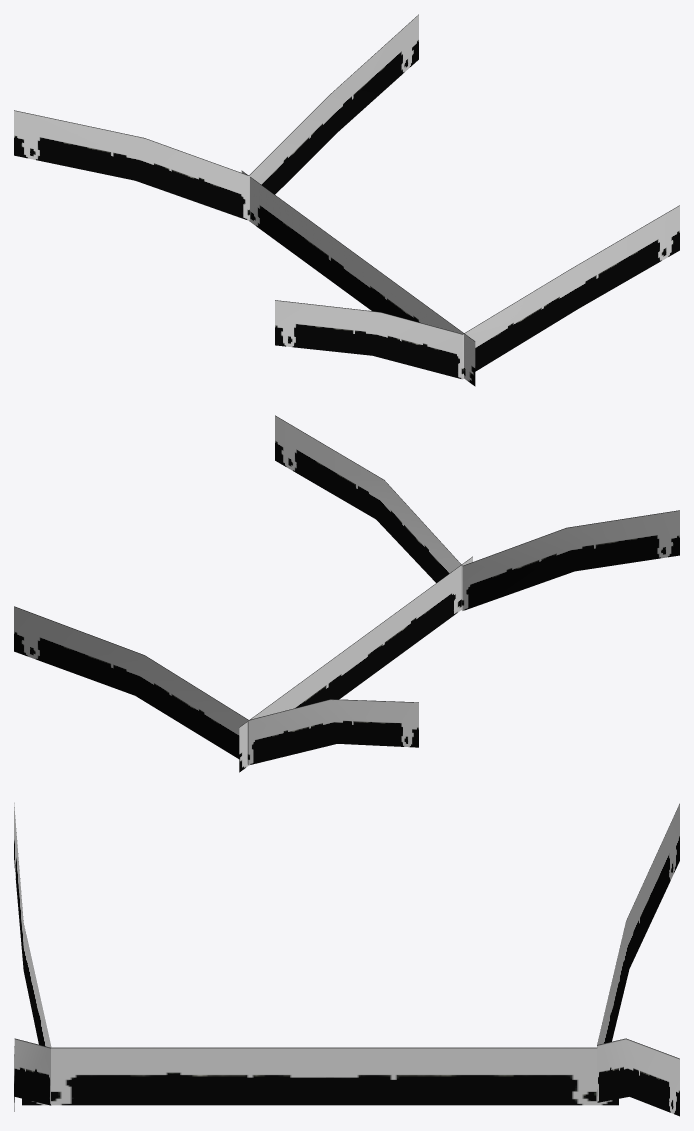
The picture shows the model from 3 angles, top to bottom: view 1: azimuth 30°, elevation 25°; view 2: azimuth 150°, elevation 25°; view 3: azimuth 270°, elevation 25°; orthographic projection. The views are drawn at different scales.
Visible parts, largest first — view 1: wy01; view 2: wy01; view 3: wy01.
Part boxes in pixels (x1,y1,x2,y2): wy01: (14,14,679,386); wy01: (14,415,679,772); wy01: (14,803,679,1116).
Bounding box in the file's own units: 306 × 101 × 341.
